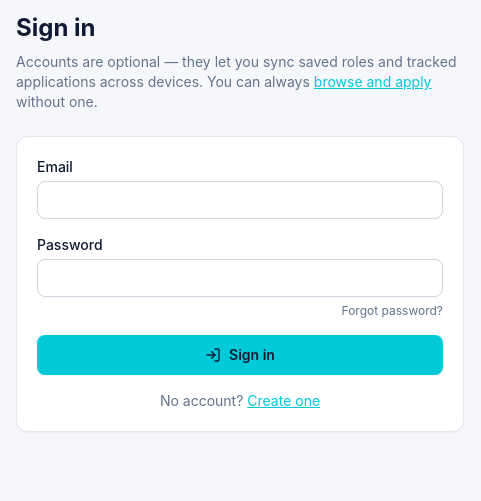
SignIn page › shows a clear error when sign-in fails
The image size is (481, 501).
Type "a@b.c" into the field labelled "Email" at (240, 200), box [37, 181, 443, 219]
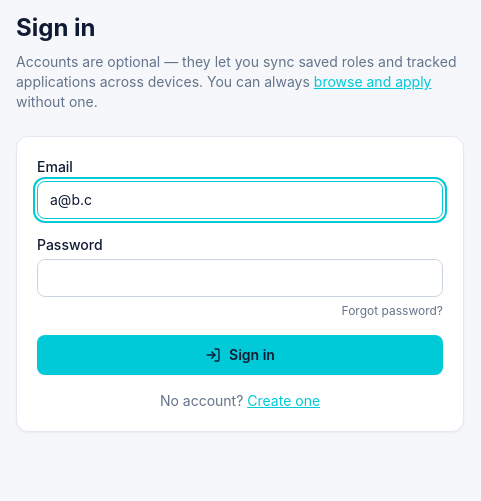
Type "secret123" into the password field labelled "Password" at (240, 278), box [37, 259, 443, 297]
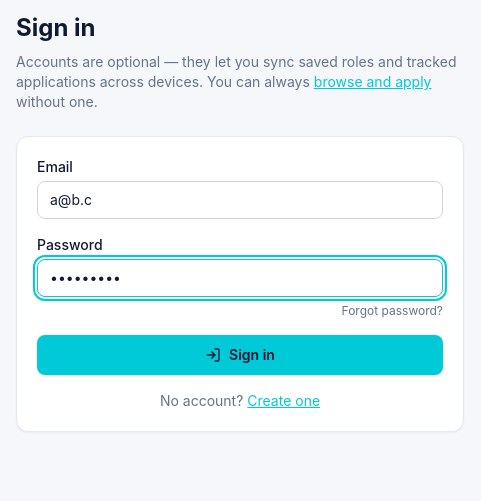
Click the button "Sign in" at (240, 355), box [37, 335, 443, 375]
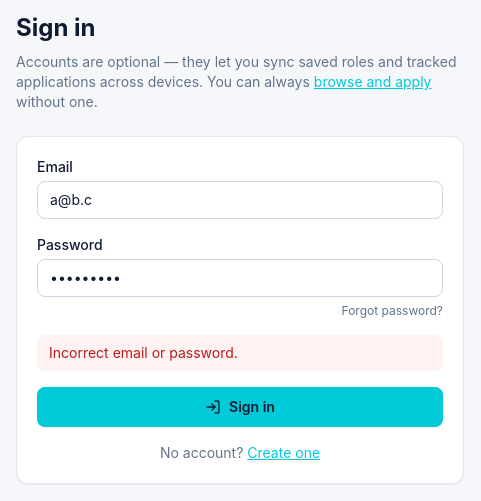
Check: the message shows "Incorrect email or password", box [49, 344, 238, 361]
